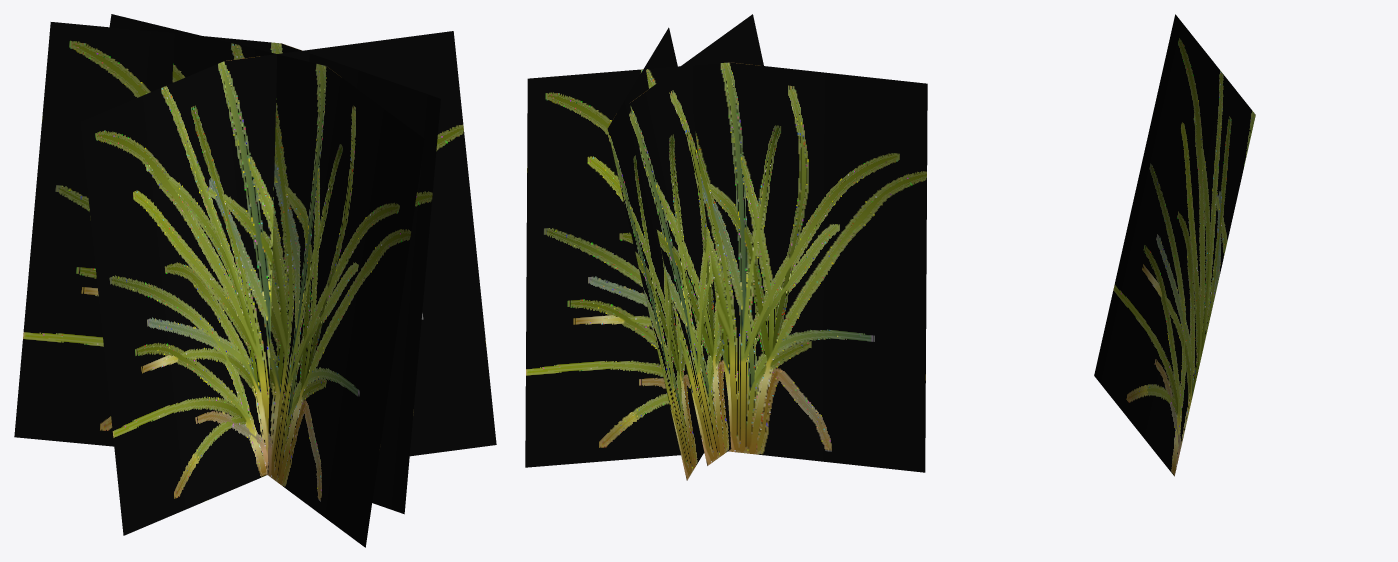
Rendered from grass_clump.glb.
The picture shows the model from 3 angles, left to right: view 1: azimuth 30°, elevation 25°; view 2: azimuth 150°, elevation 25°; view 3: azimuth 270°, elevation 25°; orthographic projection. The views are drawn at different scales.
Parts seen in each view (by area): view 1: common_grass; view 2: common_grass; view 3: common_grass.
Boxes of the visible parts, x1,y1,x2,y2 form: common_grass: (14,14,496,547); common_grass: (525,14,927,480); common_grass: (1094,14,1255,476).
Bounding box in the file's own units: 0.2585 × 0.255 × 0.2622.
Materials: 1 (1 with a texture image).
